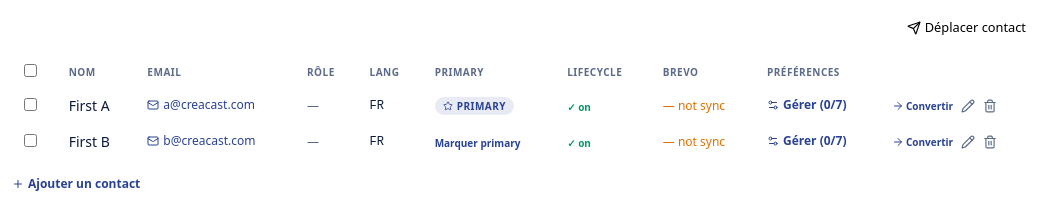
Test: CompanyContactsSection — sélection multi › header checkbox coche tous les contacts + active le bouton avec le bon count
This screenshot has width=1048, height=208.
Click the checkbox named "Tout sélectionner" at [30, 70], box left=24, top=64, right=37, bottom=77
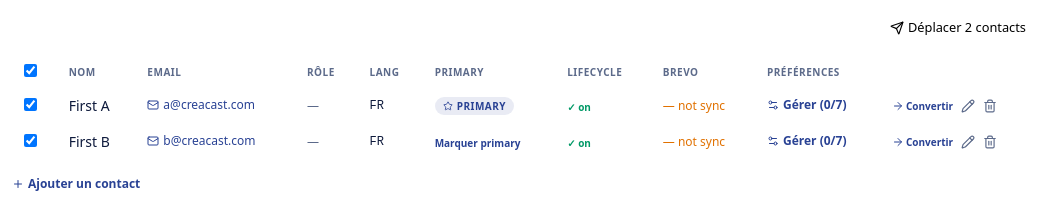
Check: the checkbox named "Sélectionner a@creacast.com" is checked, box left=24, top=98, right=37, bottom=111
Check: the checkbox named "Sélectionner b@creacast.com" is checked, box left=24, top=134, right=37, bottom=147
Check: the button "Déplacer 2 contacts" is enabled, box left=880, top=14, right=1036, bottom=42
